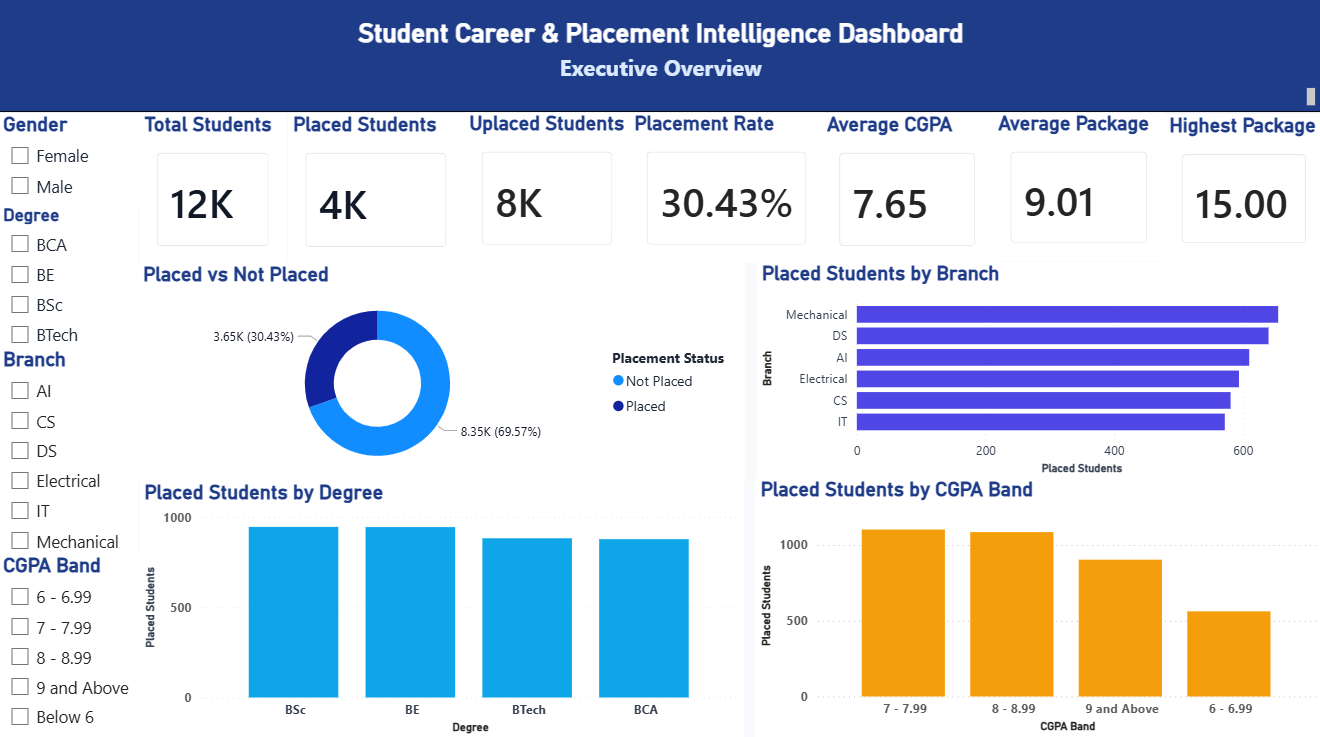

This screenshot's page, from the dashboard's own definition file:
{"tool":"powerbi","page":{"name":"Executive Overview","canvas":[1280,720],"ordinal":0},"visuals":[{"type":"cardVisual","title":"Total Students","fields":{"Data":["Indian_Student_Placement_Dataset_2025.Total Students"]},"box":[136,116.4,142.1,146.3],"z":0},{"type":"cardVisual","title":"Placed Students","fields":{"Data":["Indian_Student_Placement_Dataset_2025.Placed Students"]},"box":[279.3,116.4,170.3,146.8],"z":1000},{"type":"cardVisual","title":"Uplaced Students","fields":{"Data":["Indian_Student_Placement_Dataset_2025.Unplaced Students"]},"box":[449.6,115.2,160.5,146.3],"z":2000},{"type":"cardVisual","title":"Placement Rate ","fields":{"Data":["Indian_Student_Placement_Dataset_2025.Placement Rate %"]},"box":[608.9,115.2,188.7,145.8],"z":3000},{"type":"cardVisual","title":"Average CGPA","fields":{"Data":["Indian_Student_Placement_Dataset_2025.Average CGPA"]},"box":[795.3,115.4,165.4,145.8],"z":4000},{"type":"cardVisual","title":"Average Package","fields":{"Data":["Indian_Student_Placement_Dataset_2025.Average Package"]},"box":[960.5,115.2,166.6,144.3],"z":5000},{"type":"cardVisual","title":"Highest Package","fields":{"Data":["Indian_Student_Placement_Dataset_2025.Highest Package"]},"box":[1125.6,116.9,154.4,142.1],"z":6000},{"type":"slicer","title":"Gender","fields":{"Values":["Indian_Student_Placement_Dataset_2025.Gender"]},"box":[0,116.4,137.5,91.9],"z":7000},{"type":"slicer","title":"Degree","fields":{"Values":["Indian_Student_Placement_Dataset_2025.Degree"]},"box":[0,203.4,135.5,145.8],"z":8000},{"type":"slicer","title":"Branch","fields":{"Values":["Indian_Student_Placement_Dataset_2025.Branch"]},"box":[0,343,135.5,207],"z":9000},{"type":"slicer","title":"CGPA Band","fields":{"Values":["Indian_Student_Placement_Dataset_2025.CGPA Band"]},"box":[0,541.5,136.5,177.6],"z":10000},{"type":"donutChart","title":"Placed vs Not Placed","fields":{"Category":["Indian_Student_Placement_Dataset_2025.Placement Status"],"Y":["CountNonNull(Indian_Student_Placement_Dataset_2025.Student ID)"]},"box":[134.8,261,585.6,211],"z":11000},{"type":"clusteredBarChart","fields":{"Category":["Indian_Student_Placement_Dataset_2025.Branch"],"Y":["Indian_Student_Placement_Dataset_2025.Placed Students"]},"box":[732.6,259.7,546.4,210.5],"z":12000},{"type":"clusteredColumnChart","fields":{"Category":["Indian_Student_Placement_Dataset_2025.Degree"],"Y":["Indian_Student_Placement_Dataset_2025.Placed Students"]},"box":[136,470.9,584.4,249.4],"z":13000},{"type":"clusteredColumnChart","fields":{"Y":["Indian_Student_Placement_Dataset_2025.Placed Students"],"Category":["Indian_Student_Placement_Dataset_2025.CGPA Band"]},"box":[731.4,468.2,547.6,250.9],"z":14000},{"type":"textbox","title":"Student Career & Placement Intelligence Dashboard","box":[0,3.2,1277.8,111.5],"z":15000}]}

Visuals, with their boxes in screenshot pixels (x1, y1, x2, y2), scaled from the page's 1280x720 canvas onto the 1320x737 screenshot:
"Total Students" cardVisual: [140,119,287,269]
"Placed Students" cardVisual: [288,119,464,269]
"Uplaced Students" cardVisual: [464,118,629,268]
"Placement Rate " cardVisual: [628,118,823,267]
"Average CGPA" cardVisual: [820,118,991,267]
"Average Package" cardVisual: [991,118,1162,266]
"Highest Package" cardVisual: [1161,120,1319,265]
"Gender" slicer: [0,119,142,213]
"Degree" slicer: [0,208,140,357]
"Branch" slicer: [0,351,140,563]
"CGPA Band" slicer: [0,554,141,736]
"Placed vs Not Placed" donutChart: [139,267,743,483]
clusteredBarChart - Indian_Student_Placement_Dataset_2025.Branch x Indian_Student_Placement_Dataset_2025.Placed Students: [755,266,1319,481]
clusteredColumnChart - Indian_Student_Placement_Dataset_2025.Degree x Indian_Student_Placement_Dataset_2025.Placed Students: [140,482,743,736]
clusteredColumnChart - Indian_Student_Placement_Dataset_2025.Placed Students x Indian_Student_Placement_Dataset_2025.CGPA Band: [754,479,1319,736]
"Student Career & Placement Intelligence Dashboard" textbox: [0,3,1318,117]
